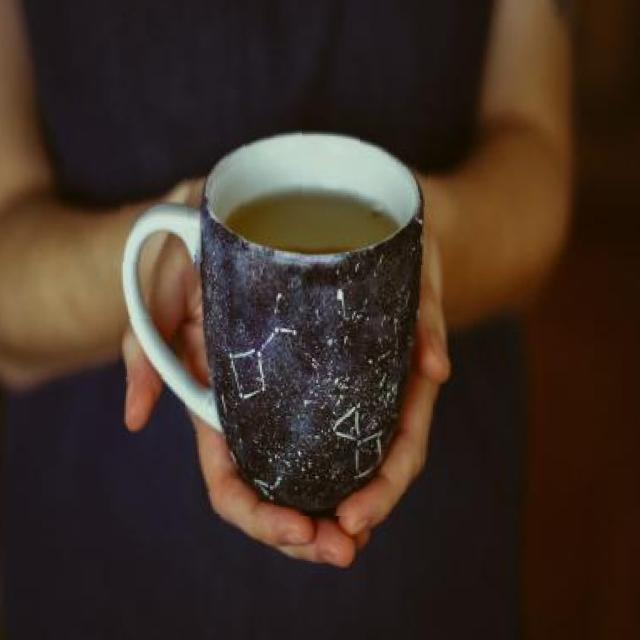cup: (115, 124, 429, 518)
